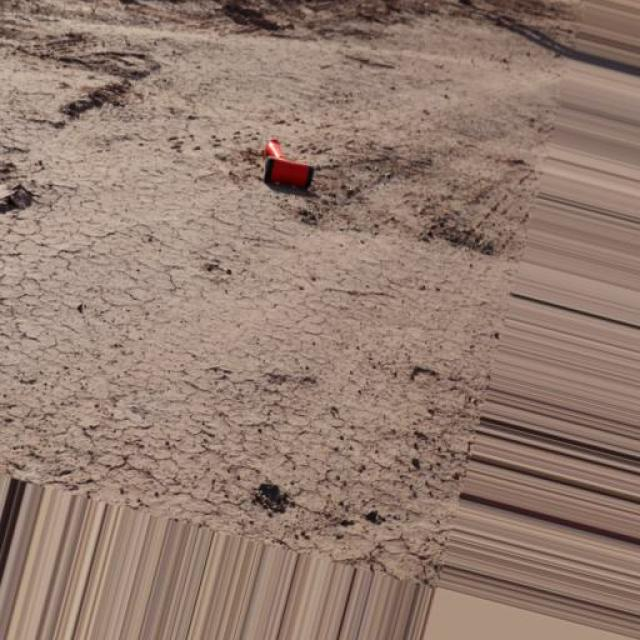mallet: (261, 138, 314, 190)
